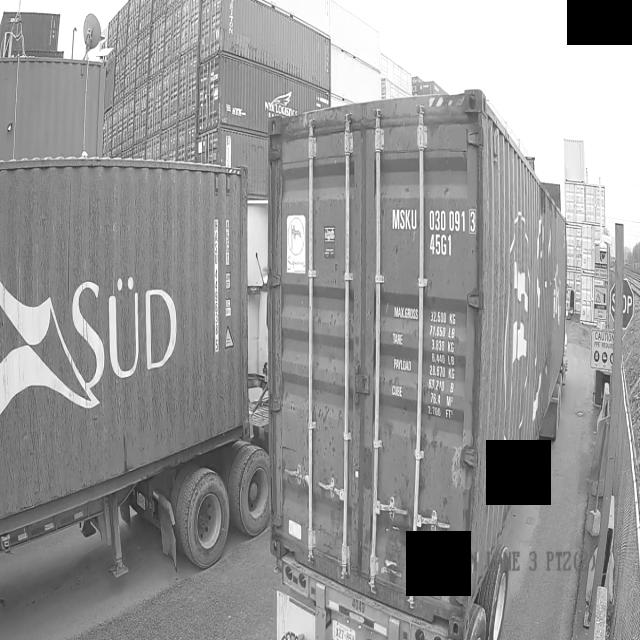container_number: (390, 201, 480, 259)
container_side_no: (212, 206, 223, 360)
license_plate: (329, 617, 360, 640)
other_container_info: (388, 294, 472, 432)
truck_with_container: (267, 89, 569, 640), (0, 157, 271, 576)
